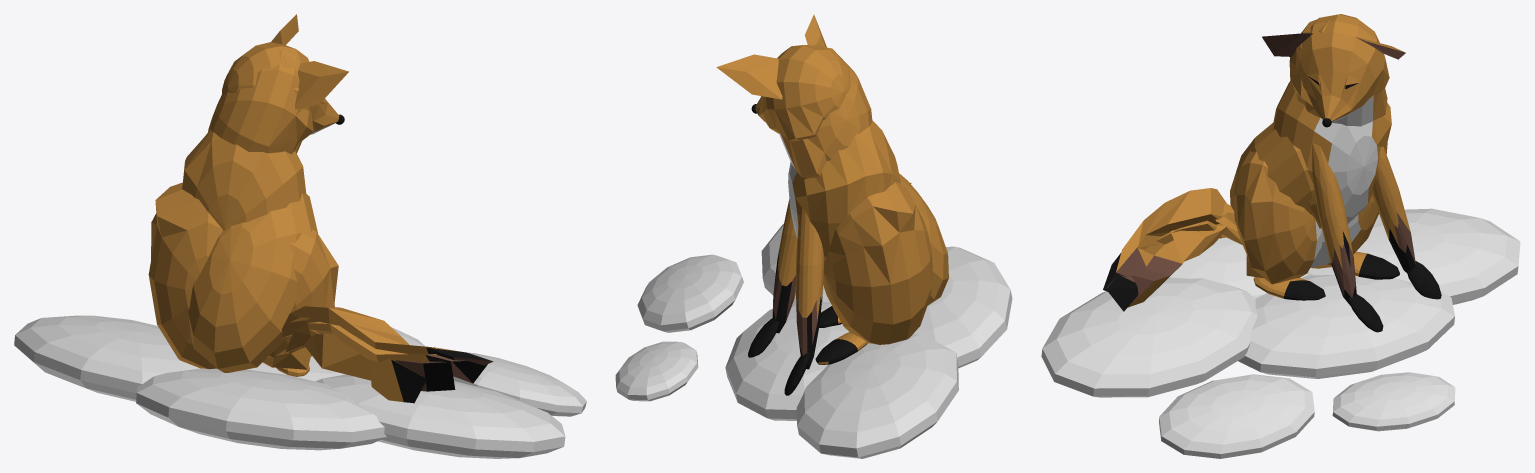
The model's file is fox.gltf.
3 views of the same model, side by side, from view 1: azimuth 30°, elevation 25°; view 2: azimuth 150°, elevation 25°; view 3: azimuth 270°, elevation 25° (orthographic). The views are drawn at different scales.
Parts seen in each view (by area): view 1: node_MeshObject1343309824-PolyPaper21; view 2: node_MeshObject1343309824-PolyPaper21; view 3: node_MeshObject1343309824-PolyPaper21.
Part boxes in pixels (x1,y1,x2,y2): node_MeshObject1343309824-PolyPaper21: (14,14,586,458); node_MeshObject1343309824-PolyPaper21: (615,14,1012,458); node_MeshObject1343309824-PolyPaper21: (1041,14,1520,458).
Bounding box in the file's own units: 1.33 × 1.1 × 1.4.
